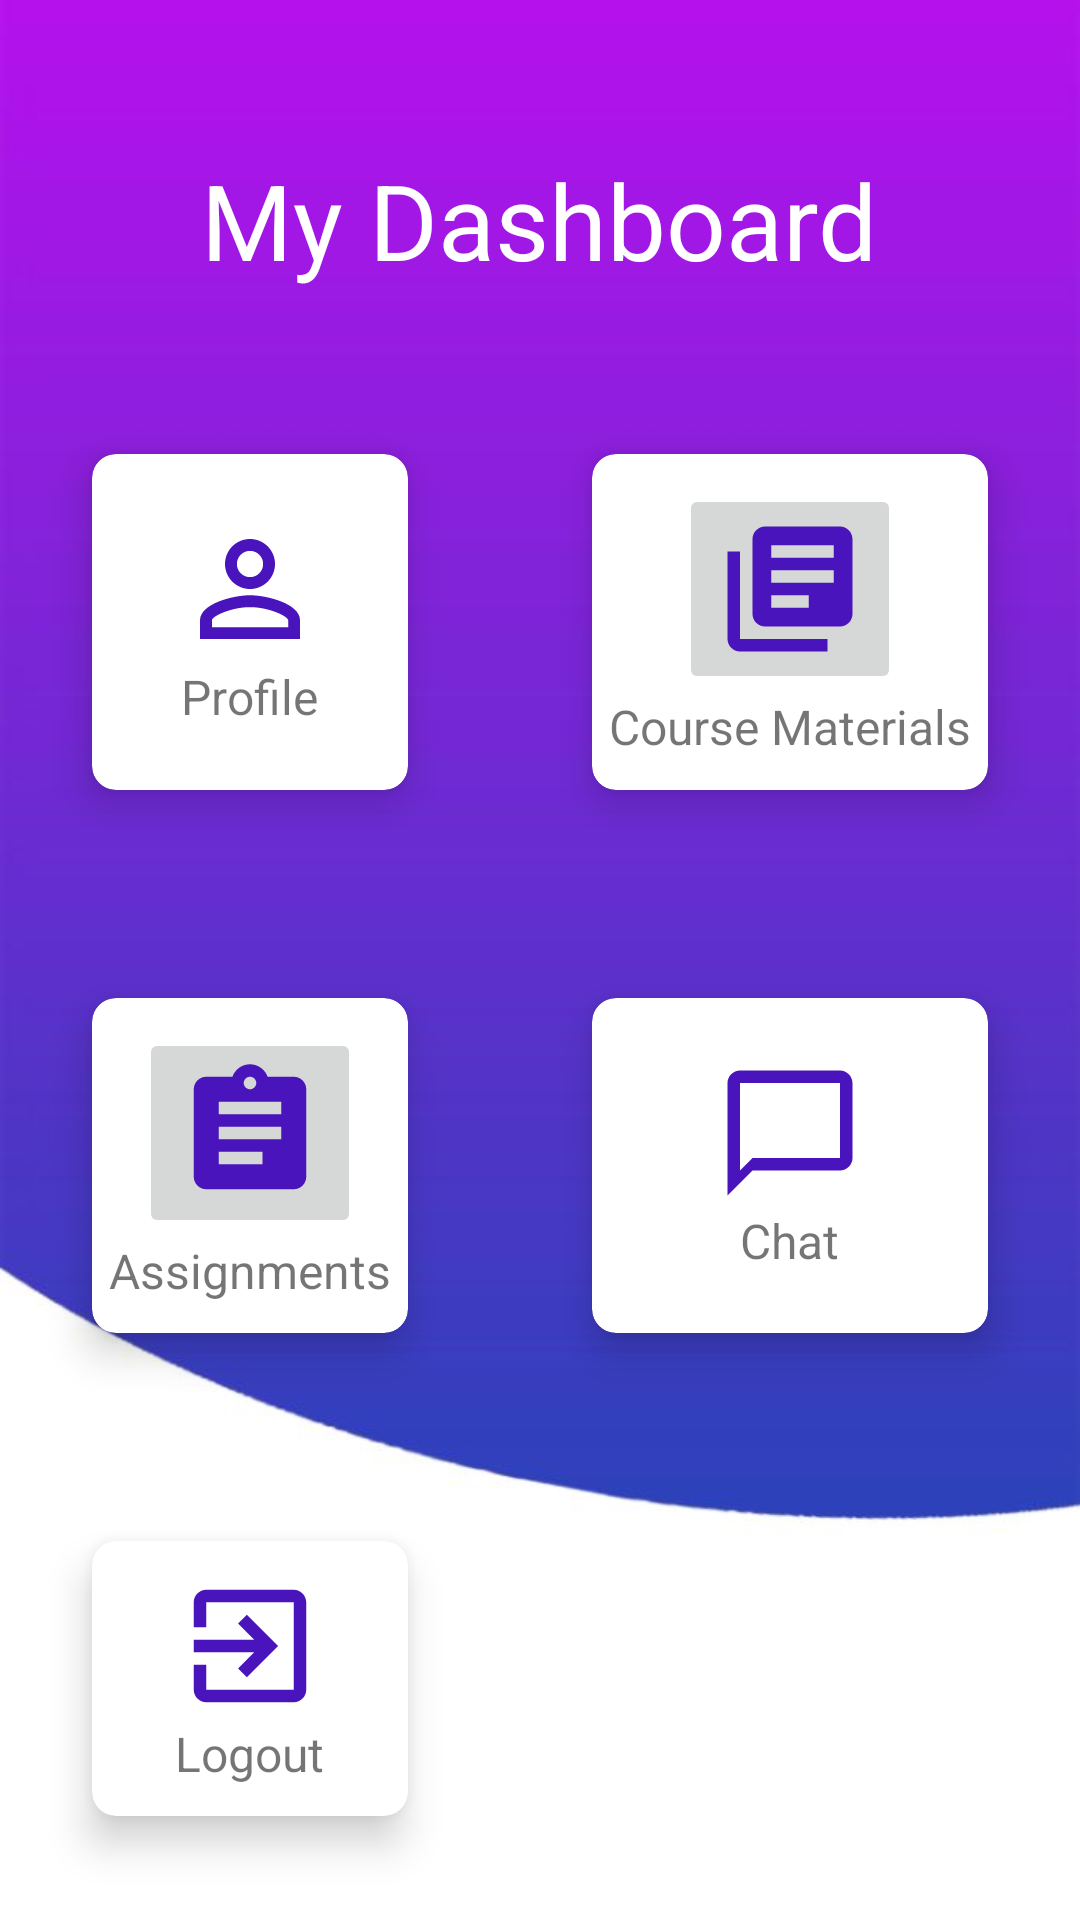

Point at icon controls on the screen. Image size 1080×1920, points as (x=x, y=y).
exit to app: (x=250, y=1646)
library books: (x=790, y=589)
person: (x=250, y=589)
